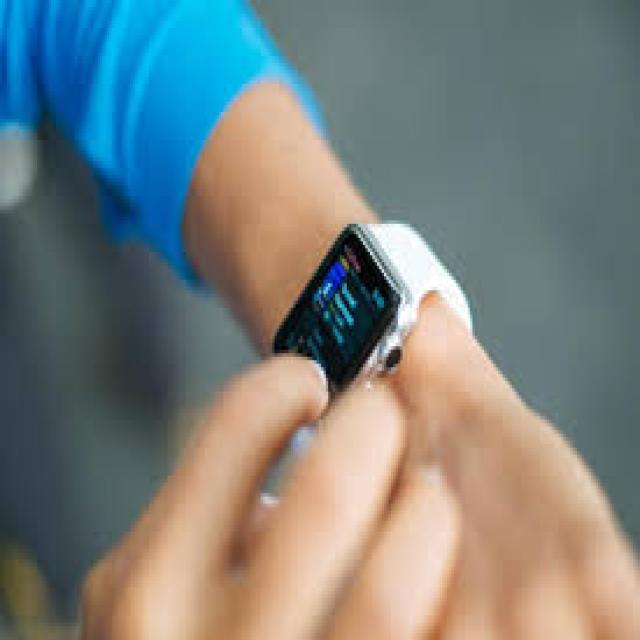objects: (259, 190, 474, 439)
